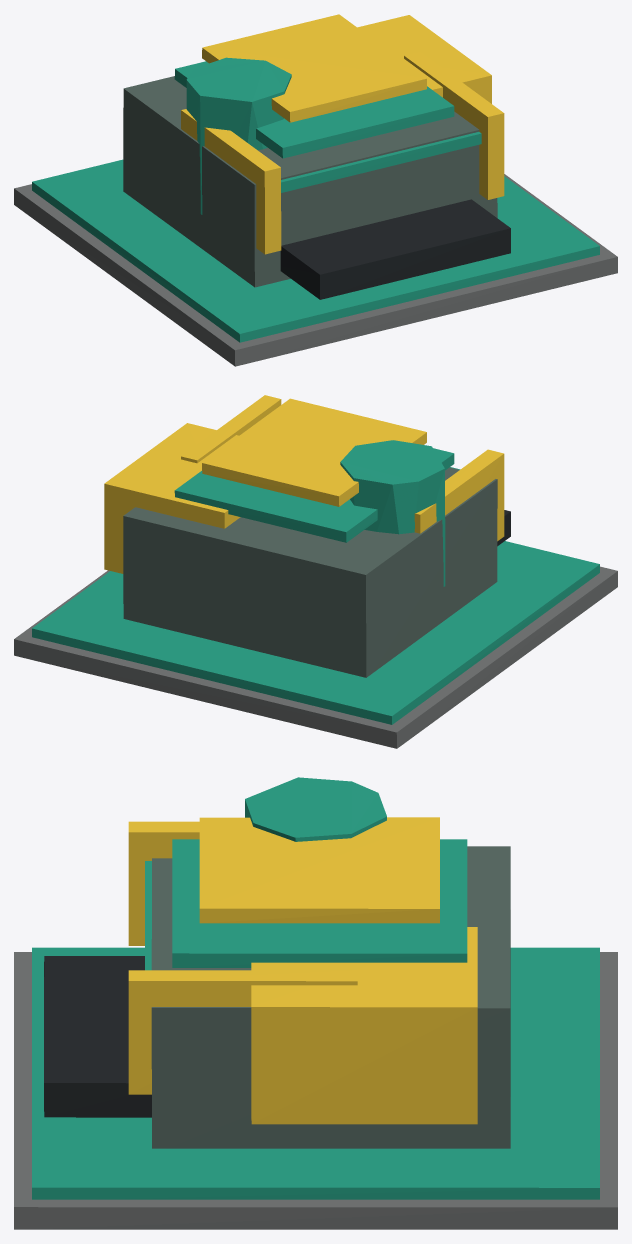
File: SM_Coalition_CO_Refinery_LOD3.fbx
3 renders of one model, top to bottom at view 1: azimuth 30°, elevation 25°; view 2: azimuth 150°, elevation 25°; view 3: azimuth 270°, elevation 25°, orthographic. The views are drawn at different scales.
Visible parts, largest first — view 1: LOD03_SM_Coalition_CO_Refinery; view 2: LOD03_SM_Coalition_CO_Refinery; view 3: LOD03_SM_Coalition_CO_Refinery.
Boxes of the visible parts, box(x1,y1,x2,y2) form: LOD03_SM_Coalition_CO_Refinery: box(14, 14, 617, 366); LOD03_SM_Coalition_CO_Refinery: box(14, 395, 617, 748); LOD03_SM_Coalition_CO_Refinery: box(14, 777, 617, 1229).
Bounding box in the file's own units: 797 × 797 × 354.
